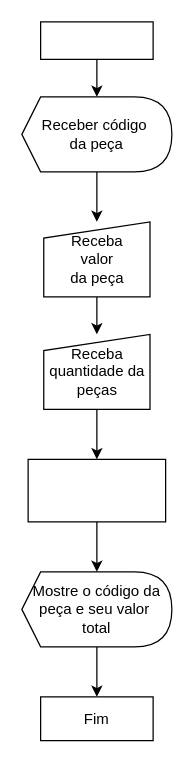
The diagram is 194 pixels wide and 763 high, and some of its shapes have lost their labels. Here are the shapes that lost their labels. From the top down, the centre of each, then its label:
At (96,40): "Inicio".
At (96,490): "Calcular o valor total da peça".
